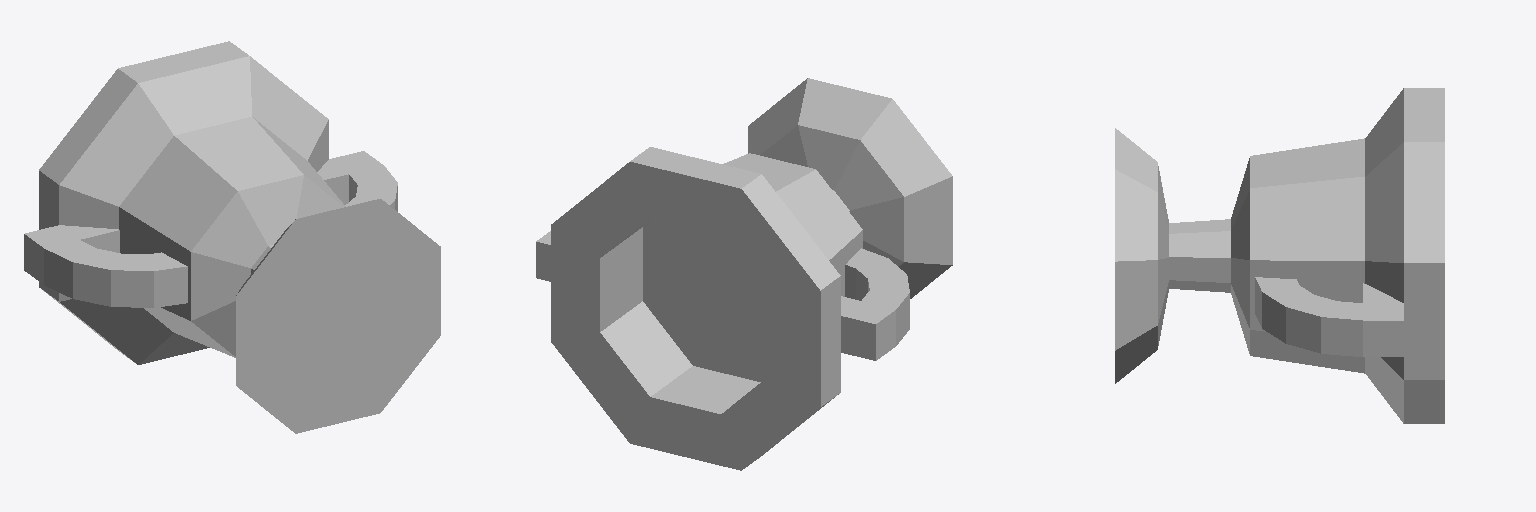
The model's file is trophy.obj.
3 views of the same model, side by side, from view 1: azimuth 30°, elevation 25°; view 2: azimuth 150°, elevation 25°; view 3: azimuth 270°, elevation 25° (orthographic).
Visible parts, largest first — view 1: trophy.001; view 2: trophy.001; view 3: trophy.001.
Part boxes in pixels (x1,y1,x2,y2): trophy.001: (24, 41, 440, 433); trophy.001: (536, 78, 952, 470); trophy.001: (1115, 88, 1444, 423).
Bounding box in the file's own units: 0.5693 × 0.4515 × 0.4774.